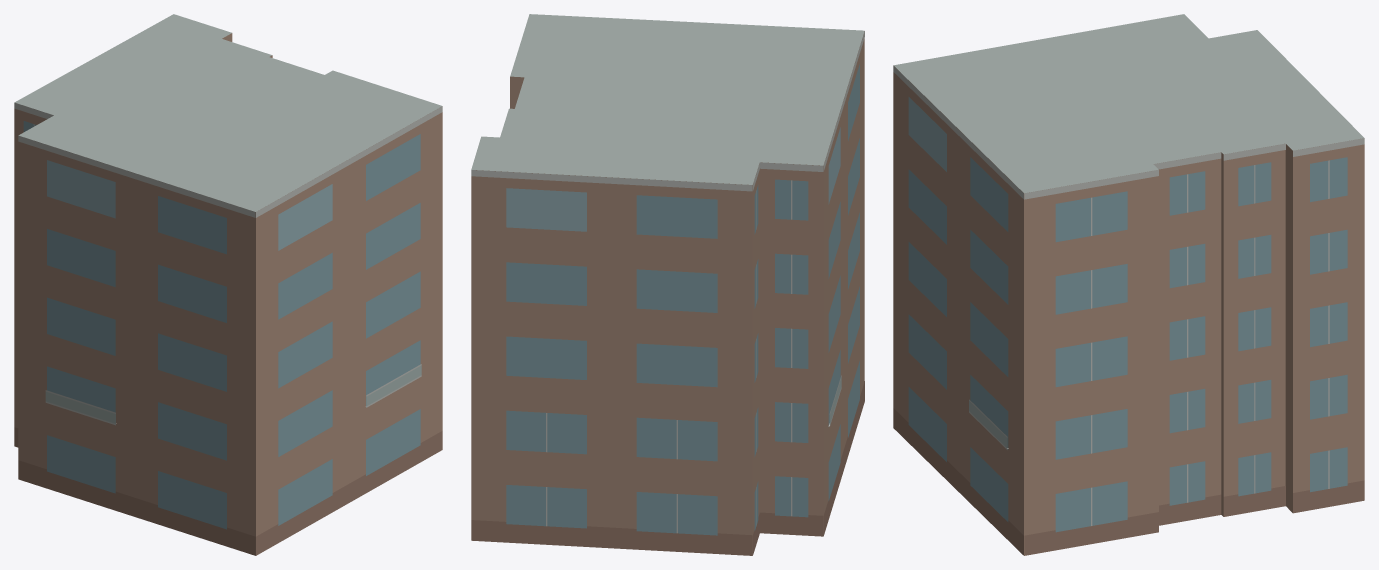
File: survey-upis-32750220.glb
The picture shows the model from 3 angles, left to right: view 1: azimuth 30°, elevation 25°; view 2: azimuth 150°, elevation 25°; view 3: azimuth 270°, elevation 25°; orthographic projection. The views are drawn at different scales.
Visible parts, largest first — view 1: survey-upis-32750220.tmp; view 2: survey-upis-32750220.tmp; view 3: survey-upis-32750220.tmp.
Part boxes in pixels (left/top/right/bottom): survey-upis-32750220.tmp: left=14, top=14, right=442, bottom=555; survey-upis-32750220.tmp: left=471, top=14, right=864, bottom=555; survey-upis-32750220.tmp: left=893, top=14, right=1364, bottom=555.
Bounding box in the file's own units: 14.86 × 14 × 16.5.
